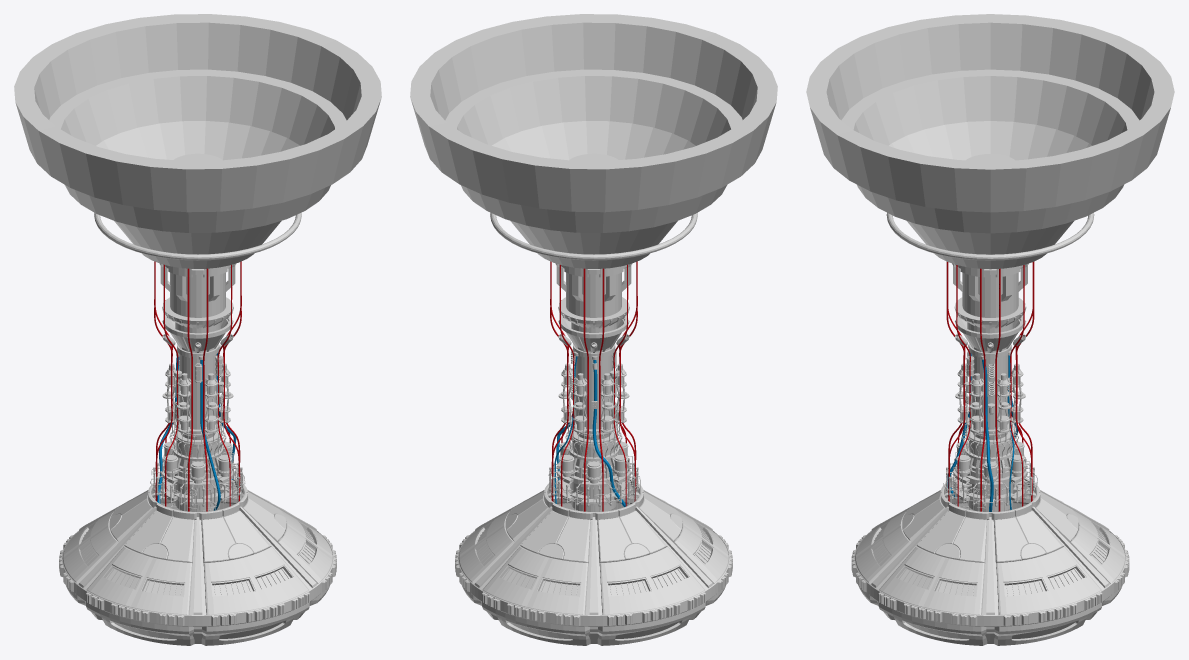
File: Apple_Core.fbx
3 renders of one model, left to right at view 1: azimuth 30°, elevation 25°; view 2: azimuth 150°, elevation 25°; view 3: azimuth 270°, elevation 25°, orthographic.
Parts seen in each view (by area): view 1: Circle.003, Circle.004, Circle.005, Circle.029, Cylinder.025, Cylinder.007, Cylinder.037, Cone.003, Cylinder.127, Cylinder.009, Cylinder.024, Torus.000 (+20 smaller); view 2: Circle.003, Circle.004, Circle.005, Circle.029, Cylinder.017, Cylinder.024, Cylinder.037, Cone.003, Cylinder.127, Cylinder.025, Cylinder.016, Torus.000 (+21 smaller); view 3: Circle.003, Circle.004, Circle.005, Circle.029, Cylinder.009, Cylinder.016, Cylinder.037, Cylinder.127, Cone.003, Cylinder.007, Cylinder.017, Torus.000 (+22 smaller).
Boxes of the visible parts, x1,y1,x2,y2 form: Circle.003: (14, 14, 381, 212); Circle.004: (49, 69, 346, 232); Circle.005: (96, 121, 299, 268); Circle.029: (65, 537, 330, 645); Cylinder.025: (86, 546, 192, 614); Cylinder.007: (203, 546, 308, 614); Cylinder.037: (167, 318, 229, 457); Cone.003: (62, 503, 333, 626); Cylinder.127: (170, 153, 225, 317); Cylinder.009: (277, 509, 333, 583); Cylinder.024: (62, 509, 118, 583); Torus.000: (94, 212, 301, 260); Circle.003: (410, 14, 777, 212); Circle.004: (445, 69, 742, 232); Circle.005: (492, 121, 695, 268); Circle.029: (461, 537, 726, 645); Cylinder.017: (482, 546, 588, 614); Cylinder.024: (599, 546, 704, 614); Cylinder.037: (563, 318, 624, 457); Cone.003: (458, 503, 729, 626); Cylinder.127: (566, 153, 621, 317); Cylinder.025: (673, 509, 729, 583); Cylinder.016: (458, 509, 514, 583); Torus.000: (490, 212, 697, 260); Circle.003: (806, 14, 1174, 212); Circle.004: (841, 69, 1139, 233); Circle.005: (889, 121, 1091, 269); Circle.029: (858, 537, 1122, 645); Cylinder.009: (879, 546, 984, 614); Cylinder.016: (996, 546, 1101, 614); Cylinder.037: (959, 318, 1021, 457); Cylinder.127: (962, 154, 1018, 317); Cone.003: (854, 503, 1126, 626); Cylinder.007: (855, 509, 911, 583); Cylinder.017: (1070, 509, 1125, 583); Torus.000: (886, 212, 1094, 260).
Bounding box in the file's own units: 221 × 336 × 221.
